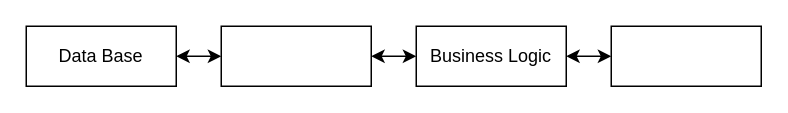
Image size: 788x113. Some labels were removed from this diagram. Here are the shapes that lost their labels. From the top down, the box of each, then its label:
(220, 25, 371, 86): Data Access
(610, 25, 761, 86): Web Server
